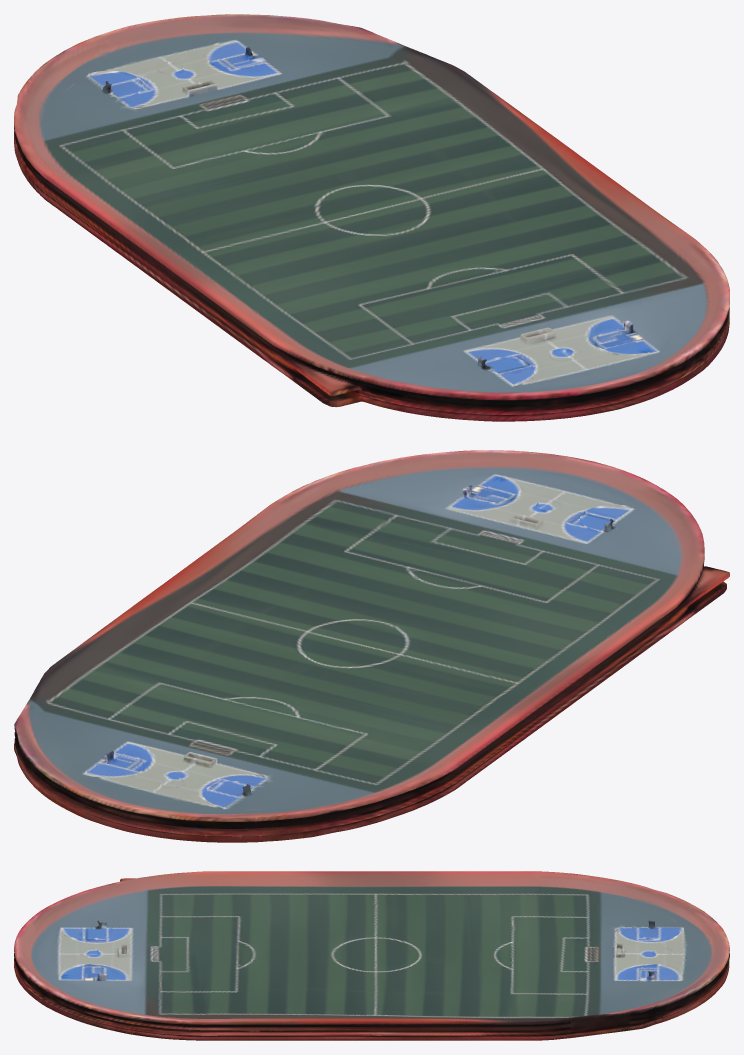
Rendered from base_basic_shaded.fbx.
The picture shows the model from 3 angles, top to bottom: view 1: azimuth 30°, elevation 25°; view 2: azimuth 150°, elevation 25°; view 3: azimuth 270°, elevation 25°; orthographic projection. The views are drawn at different scales.
Parts seen in each view (by area): view 1: model; view 2: model; view 3: model.
Boxes of the visible parts, x1,y1,x2,y2 form: model: (14,14,729,421); model: (14,450,729,842); model: (14,871,729,1040).
Bounding box in the file's own units: 93.48 × 5.55 × 188.
